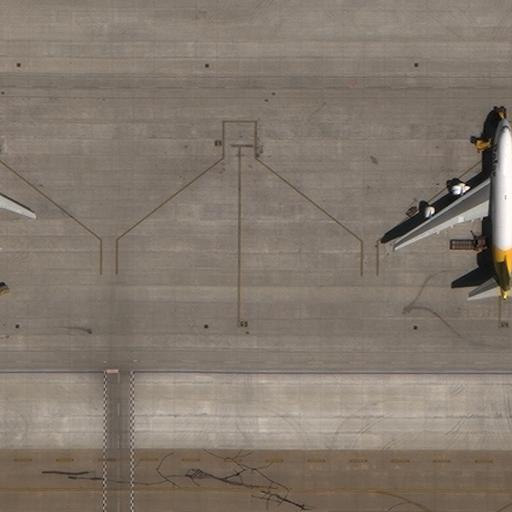Large Civil Transport: (393, 118, 511, 299)
Medium Civil Transport: (0, 164, 35, 240)
